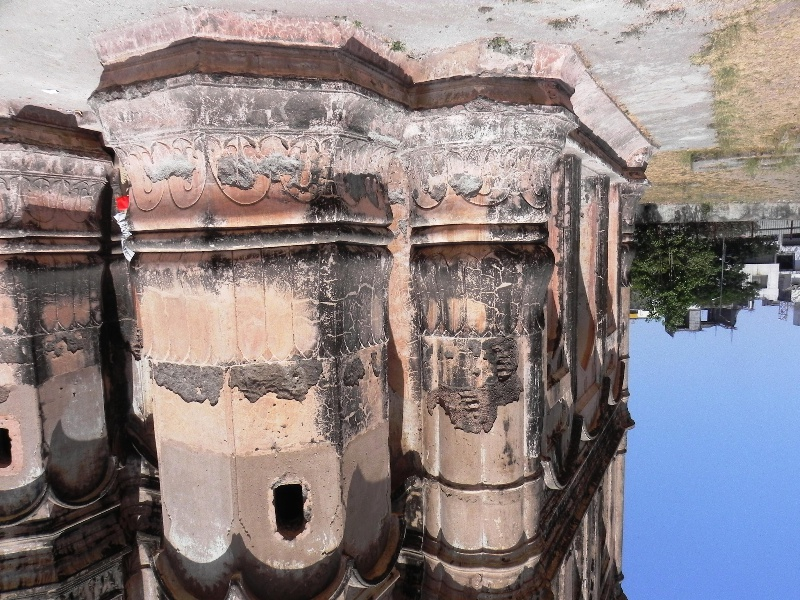Spalling: (145, 354, 331, 411), (422, 381, 506, 440), (341, 347, 382, 392), (492, 338, 521, 395)
